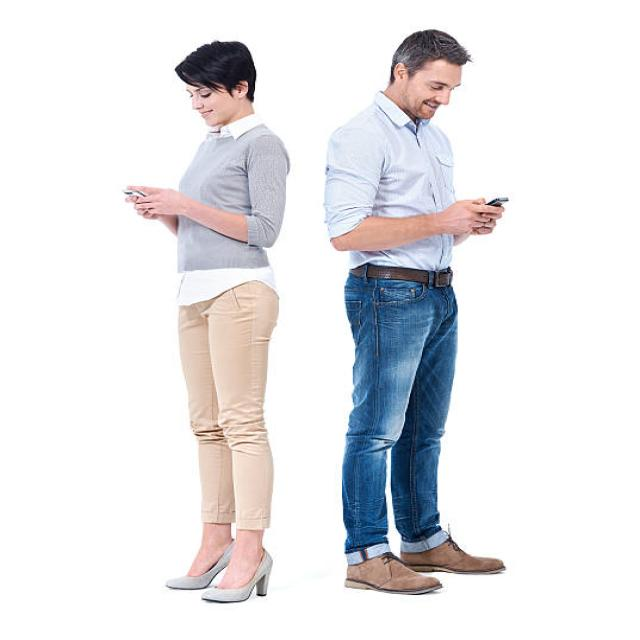Edited images: (119, 20, 524, 612)
